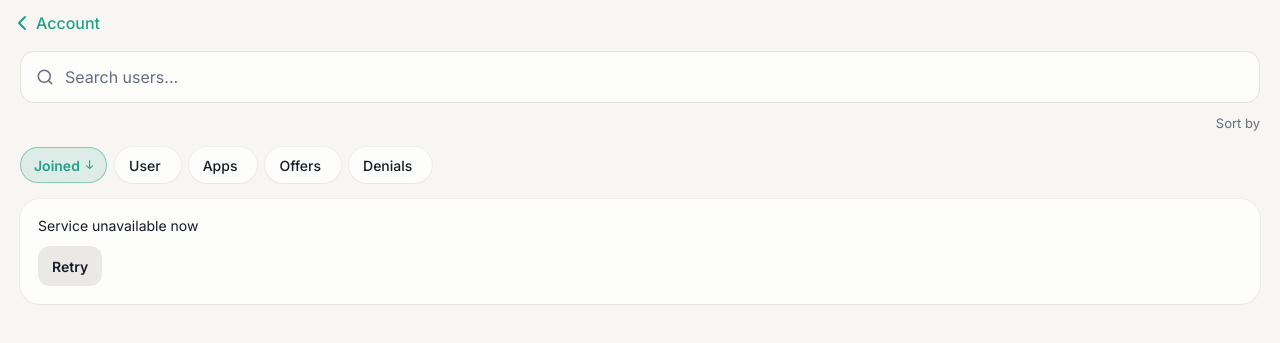
Scenario: the admin Users board below md (v3/AdminUsers) › shows the server's words and Retry when the list fails
expect the text "Service unavailable now" is shown: met, box [38,217,198,234]
Click the button "Retry". click: [70, 266]
box: [38,244,102,288]
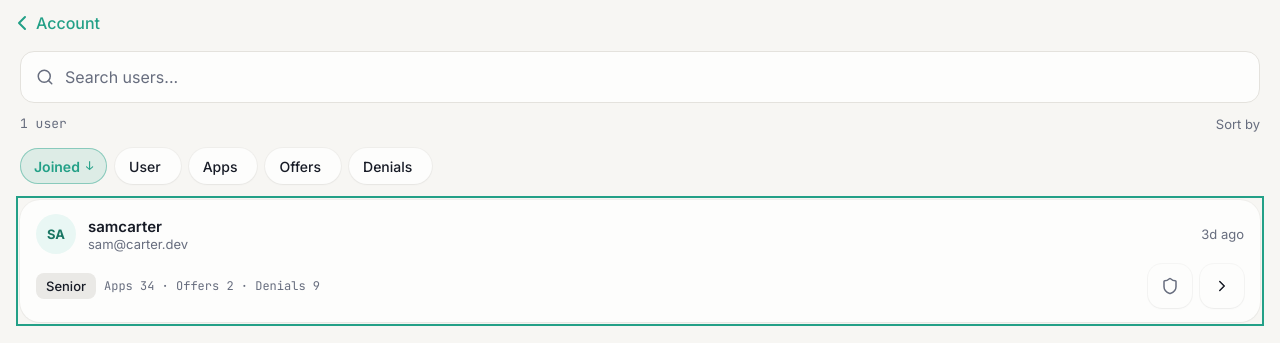
expect the text "samcarter" is shown: met, box [88,216,162,236]
